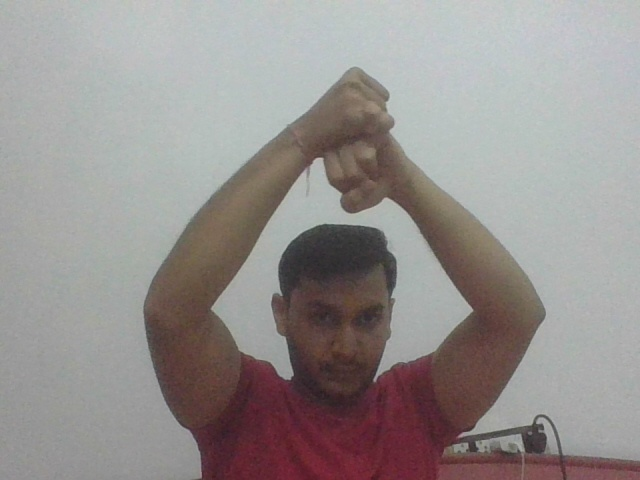S: (320, 64, 400, 217)
